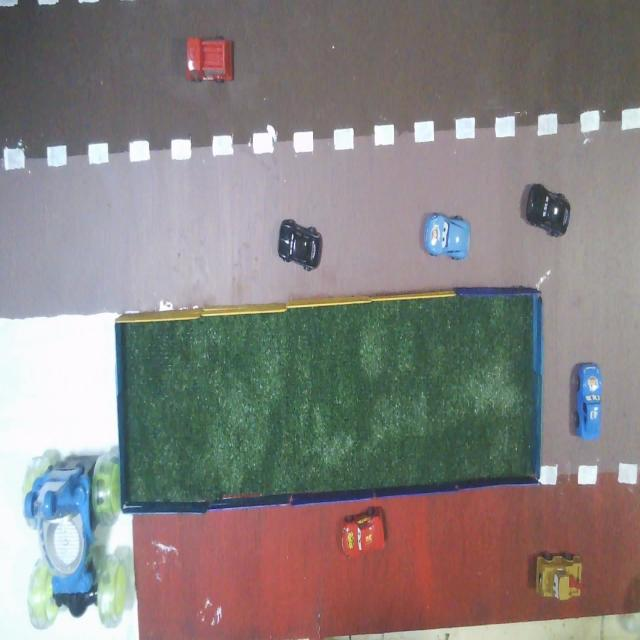driver car f: (23, 449, 131, 629)
small cars: (526, 184, 570, 236), (278, 220, 321, 270), (342, 507, 384, 558), (536, 553, 581, 600), (187, 37, 233, 82), (425, 214, 470, 259), (577, 364, 601, 440)
